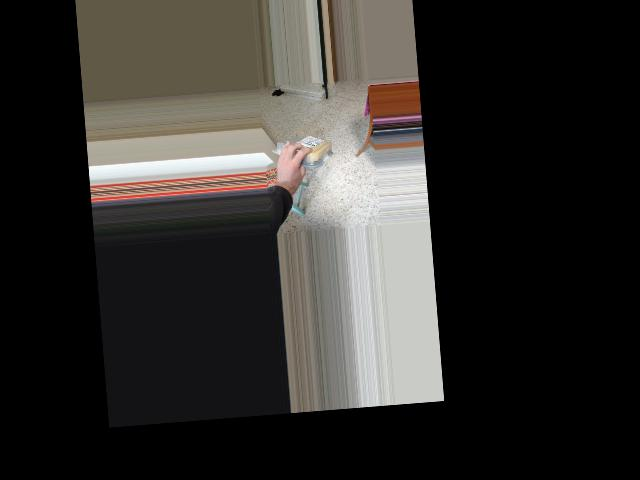cheese: (288, 132, 335, 165)
